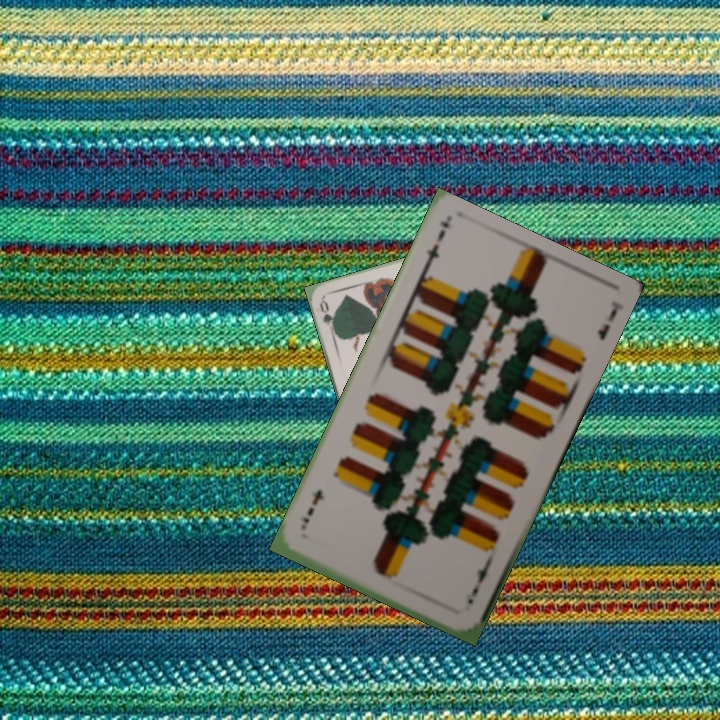E7: (463, 558, 493, 607), (419, 225, 448, 275)
GO: (315, 296, 338, 336)
